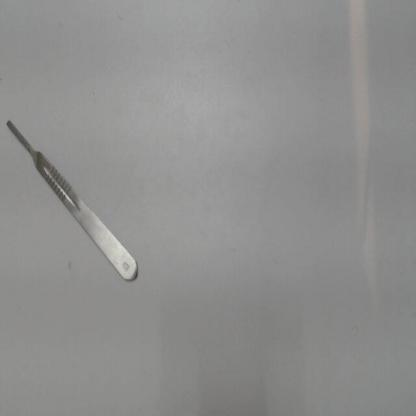No.4 BP Handle: (1, 112, 146, 288)
